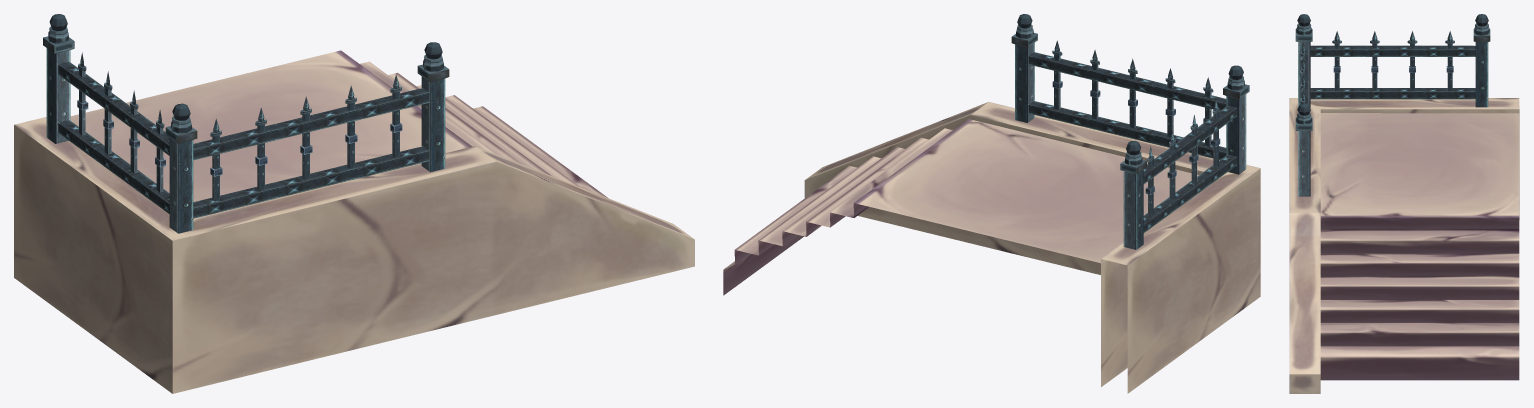
File: taijie06.fbx
The picture shows the model from 3 angles, left to right: view 1: azimuth 30°, elevation 25°; view 2: azimuth 150°, elevation 25°; view 3: azimuth 270°, elevation 25°; orthographic projection. The views are drawn at different scales.
Visible parts, largest first — view 1: mentaijie02; view 2: mentaijie02; view 3: mentaijie02.
Boxes of the visible parts, x1,y1,x2,y2 form: mentaijie02: (14, 14, 694, 393); mentaijie02: (723, 14, 1260, 393); mentaijie02: (1289, 14, 1519, 393).
Size of the model in its own units: 60.24 by 30.73 by 31.69.
Materials: 1 (1 with a texture image).
